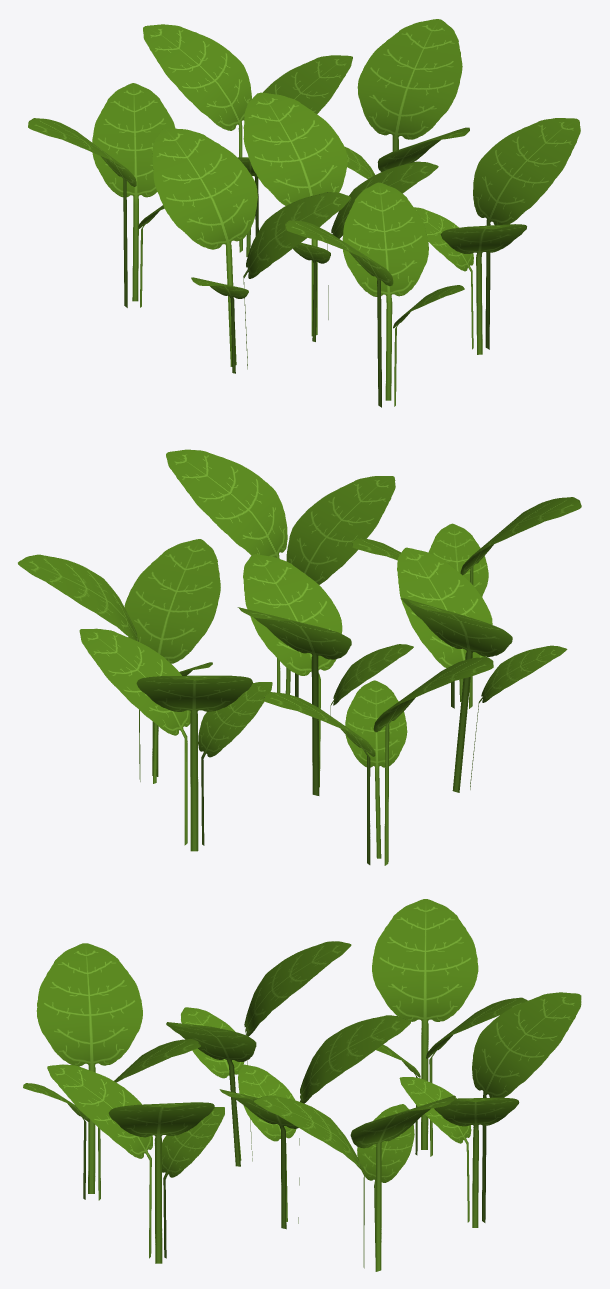
File: Baby_potato.fbx
3 renders of one model, top to bottom at view 1: azimuth 30°, elevation 25°; view 2: azimuth 150°, elevation 25°; view 3: azimuth 270°, elevation 25°, orthographic. The views are drawn at different scales.
Parts seen in each view (by area): view 1: Baby_Potato; view 2: Baby_Potato; view 3: Baby_Potato.
Part boxes in pixels (left/top/right/bottom): Baby_Potato: left=28, top=19, right=580, bottom=407; Baby_Potato: left=18, top=449, right=581, bottom=865; Baby_Potato: left=23, top=899, right=581, bottom=1271.
Size of the model in its own units: 57.19 by 27.6 by 65.62.
1 material, 1 textured.
